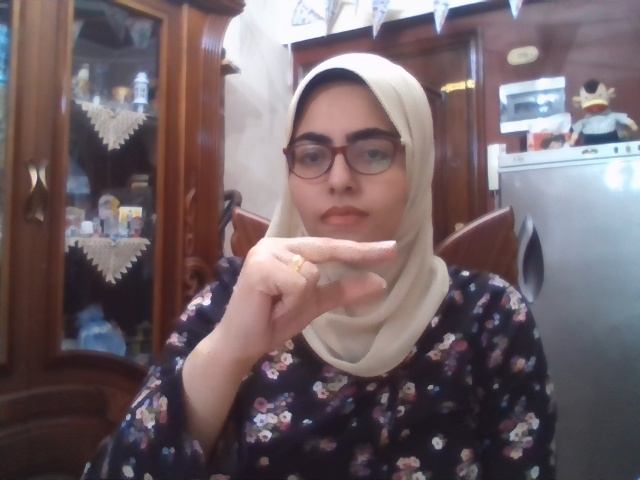no: (220, 236, 396, 360)
